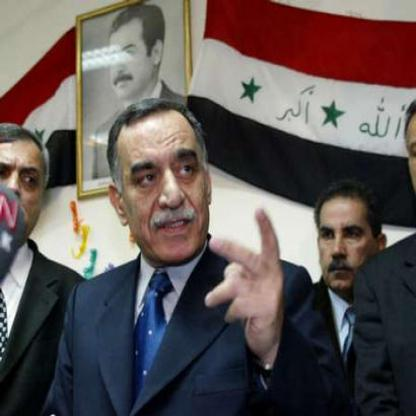face: (120, 99, 209, 267), (315, 181, 380, 295), (1, 130, 46, 238), (106, 14, 155, 104)
